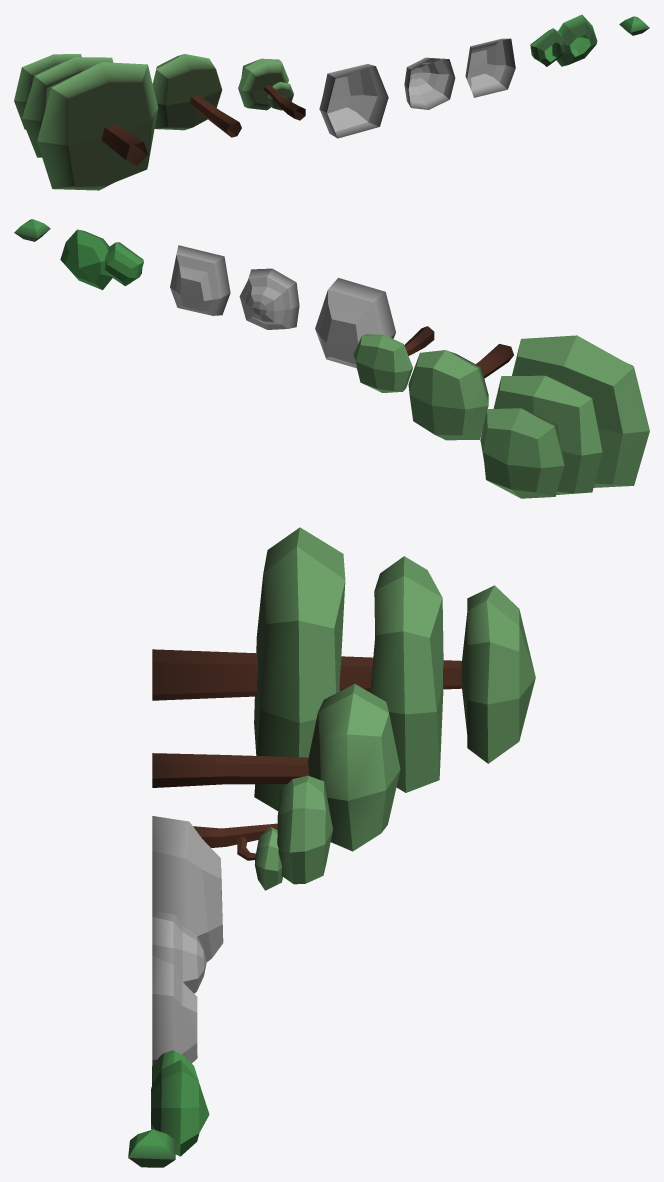
The model's file is pipelineII (1).fbx.
The picture shows the model from 3 angles, top to bottom: view 1: azimuth 30°, elevation 25°; view 2: azimuth 150°, elevation 25°; view 3: azimuth 270°, elevation 25°; orthographic projection. The views are drawn at different scales.
Parts seen in each view (by area): view 1: tree3, tree2, rock2, tree1, rock1, bush2, rock3, bush1; view 2: tree3, tree2, rock2, rock1, tree1, bush2, rock3, bush1; view 3: tree3, tree2, tree1, rock2, bush2, rock1, rock3, bush1.
Part boxes in pixels (x1,y1,x2,y2): tree3: [14, 54, 158, 190]; tree2: [152, 54, 241, 137]; rock2: [319, 64, 388, 138]; tree1: [238, 58, 305, 120]; rock1: [465, 38, 515, 97]; bush2: [530, 14, 597, 66]; rock3: [404, 57, 455, 109]; bush1: [619, 16, 649, 35]; tree3: [480, 335, 649, 498]; tree2: [408, 344, 513, 440]; rock2: [315, 277, 395, 368]; rock1: [170, 245, 230, 315]; tree1: [353, 326, 434, 392]; bush2: [60, 229, 143, 290]; rock3: [239, 268, 299, 329]; bush1: [14, 219, 50, 241]; tree3: [152, 527, 535, 810]; tree2: [152, 684, 400, 851]; tree1: [193, 775, 332, 890]; rock2: [152, 816, 223, 962]; bush2: [151, 1050, 209, 1156]; rock1: [152, 956, 197, 1065]; rock3: [152, 910, 206, 993]; bush1: [128, 1129, 175, 1167].
Size of the model in its own units: 2918 by 630 by 903.
